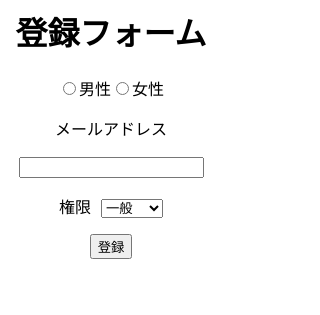
Test: Sample test › check role
Select "管理者" in the dropdown with id "select-role": x=132, y=209 [101, 199, 163, 218]
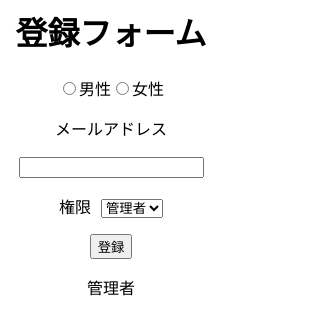
Expected: the text with id "result-role" reads "管理者", [87, 278, 135, 298]
